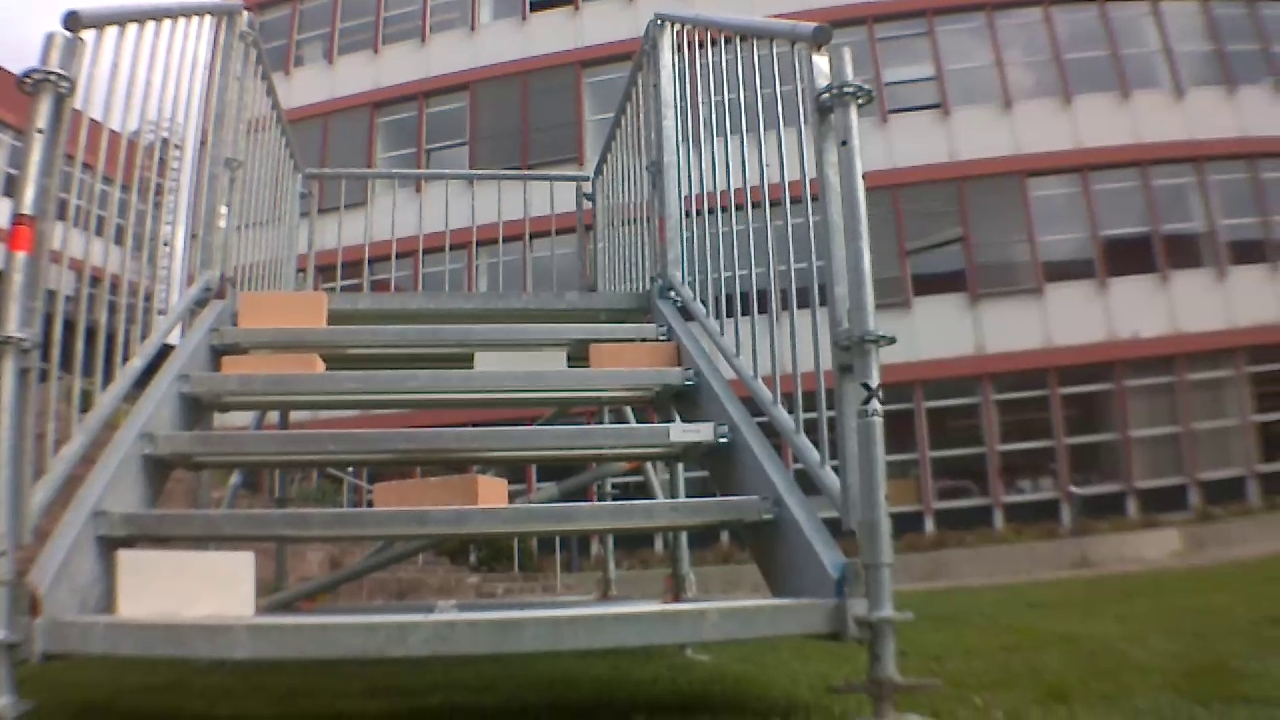brick: (115, 549, 255, 617), (372, 475, 506, 506), (238, 291, 326, 327), (589, 341, 675, 367), (222, 352, 325, 373), (473, 349, 565, 369)
edge: (48, 601, 844, 659), (96, 494, 780, 535), (141, 421, 736, 454), (180, 367, 699, 390), (211, 324, 676, 342), (229, 291, 650, 309)
stairs: (4, 4, 904, 714)
steps: (44, 282, 848, 669)
